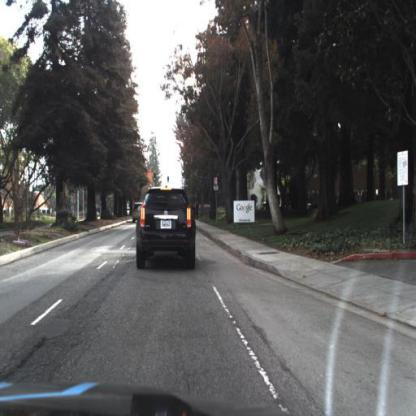car: (135, 186, 198, 272)
trafficLight-Green: (153, 171, 159, 183), (167, 176, 171, 186)
